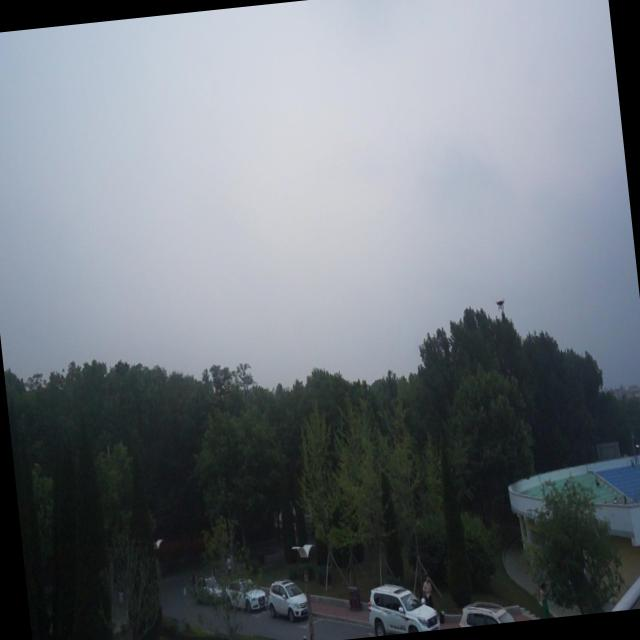drone: (492, 294, 508, 312)
